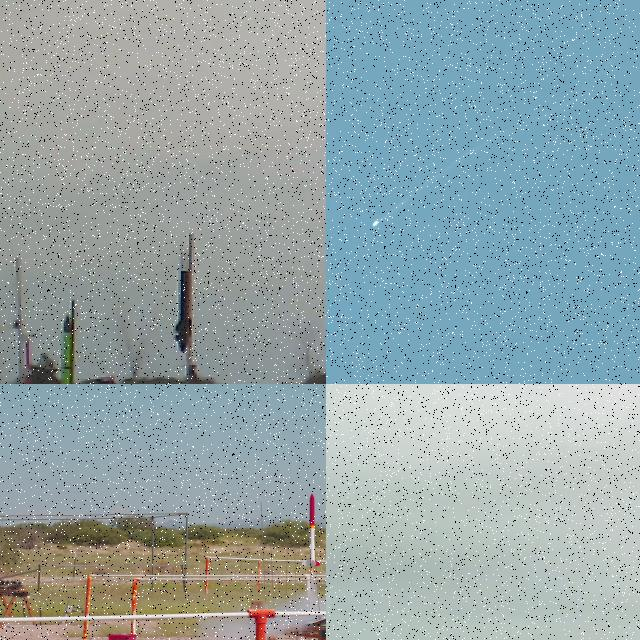Rocket: (173, 235, 193, 352), (301, 493, 321, 568), (60, 314, 72, 384), (372, 219, 379, 227)
